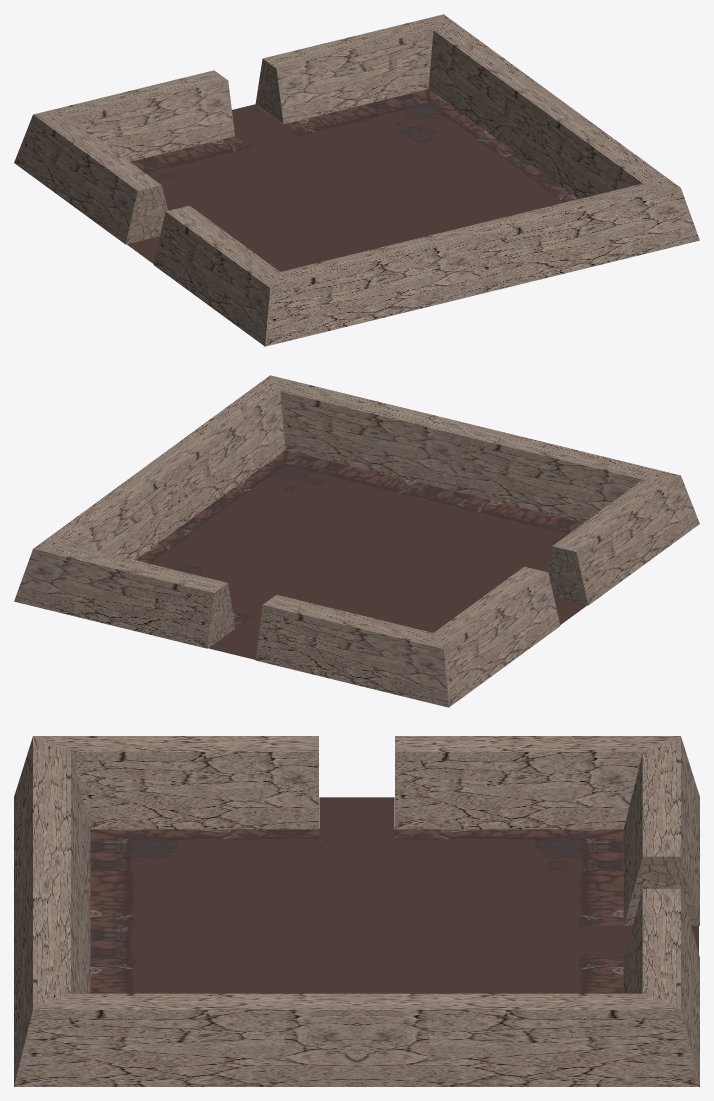
Rendered from sala_5.obj.
The picture shows the model from 3 angles, top to bottom: view 1: azimuth 30°, elevation 25°; view 2: azimuth 150°, elevation 25°; view 3: azimuth 270°, elevation 25°; orthographic projection. The views are drawn at different scales.
Parts seen in each view (by area): view 1: Ground_Plane.001, Wall.003_Cube.010, Wall.001_Cube.012, Wall.004_Cube.015, Wall.007_Cube.017, Wall.006_Cube.016, Wall.000_Cube.011, Wall.005_Cube.002, Wall.002_Cube.014, Plane.001_Plane.007; view 2: Ground_Plane.001, Wall.004_Cube.015, Wall.006_Cube.016, Wall.003_Cube.010, Wall.001_Cube.012, Wall.000_Cube.011, Wall.007_Cube.017, Wall.002_Cube.014, Wall.005_Cube.002, Plane.001_Plane.007; view 3: Ground_Plane.001, Wall.005_Cube.002, Wall.002_Cube.014, Wall.000_Cube.011, Wall.007_Cube.017, Wall.006_Cube.016, Wall.001_Cube.012, Wall.003_Cube.010, Wall.004_Cube.015, Plane.000_Plane.006, Plane.001_Plane.007.
Part boxes in pixels (x1=…): Ground_Plane.001: x1=130, y1=89, x2=578, y2=271; Wall.003_Cube.010: x1=462, y1=183, x2=699, y2=293; Wall.001_Cube.012: x1=265, y1=228, x2=482, y2=346; Wall.004_Cube.015: x1=255, y1=14, x2=443, y2=124; Wall.007_Cube.017: x1=14, y1=114, x2=168, y2=244; Wall.006_Cube.016: x1=33, y1=70, x2=234, y2=161; Wall.000_Cube.011: x1=153, y1=205, x2=279, y2=346; Wall.005_Cube.002: x1=428, y1=14, x2=561, y2=159; Wall.002_Cube.014: x1=526, y1=101, x2=680, y2=198; Plane.001_Plane.007: x1=232, y1=104, x2=298, y2=147; Ground_Plane.001: x1=135, y1=450, x2=583, y2=632; Wall.004_Cube.015: x1=14, y1=544, x2=234, y2=648; Wall.006_Cube.016: x1=255, y1=594, x2=448, y2=707; Wall.003_Cube.010: x1=270, y1=375, x2=474, y2=490; Wall.001_Cube.012: x1=454, y1=425, x2=680, y2=522; Wall.000_Cube.011: x1=545, y1=475, x2=699, y2=605; Wall.007_Cube.017: x1=434, y1=566, x2=560, y2=707; Wall.002_Cube.014: x1=152, y1=375, x2=285, y2=520; Wall.005_Cube.002: x1=33, y1=462, x2=187, y2=559; Plane.001_Plane.007: x1=208, y1=616, x2=260, y2=659; Ground_Plane.001: x1=90, y1=829, x2=623, y2=993; Wall.005_Cube.002: x1=357, y1=993, x2=699, y2=1086; Wall.002_Cube.014: x1=14, y1=993, x2=356, y2=1086; Wall.000_Cube.011: x1=33, y1=736, x2=318, y2=829; Wall.007_Cube.017: x1=395, y1=736, x2=680, y2=829; Wall.006_Cube.016: x1=623, y1=736, x2=699, y2=925; Wall.001_Cube.012: x1=14, y1=736, x2=90, y2=941; Wall.003_Cube.010: x1=14, y1=873, x2=90, y2=1085; Wall.004_Cube.015: x1=623, y1=889, x2=699, y2=1085; Plane.000_Plane.006: x1=319, y1=797, x2=394, y2=847; Plane.001_Plane.007: x1=580, y1=925, x2=698, y2=957.
Size of the model in its own units: 18 by 2 by 18.
